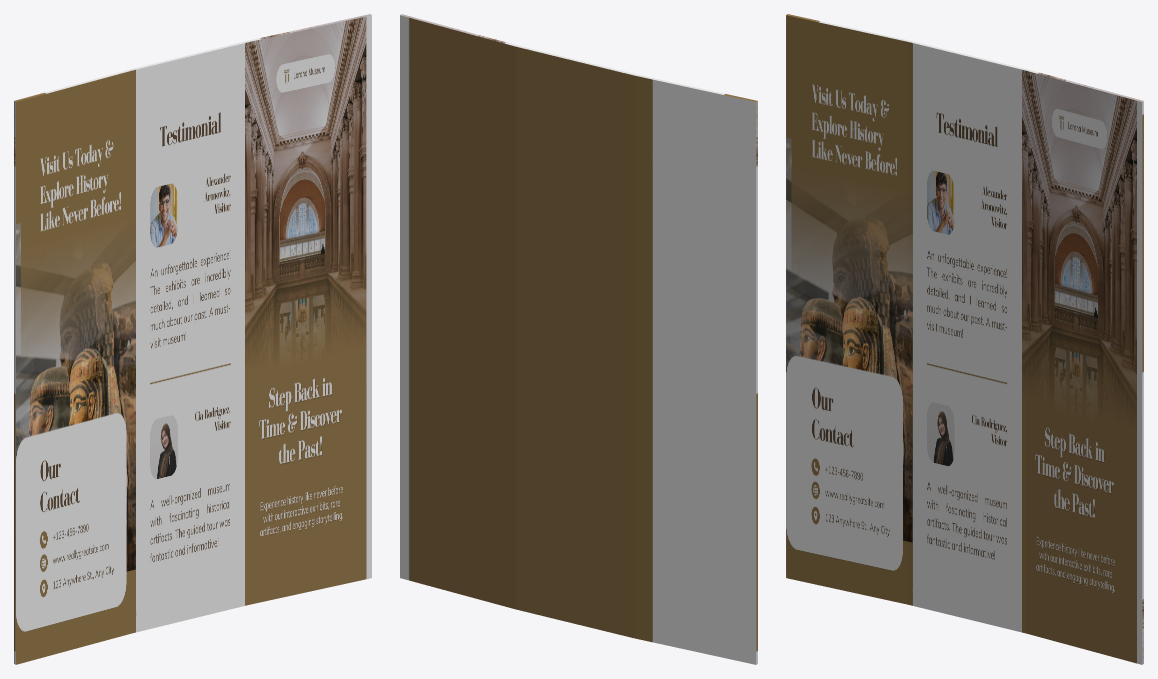
Rendered from Brochure.fbx.
3 renders of one model, left to right at view 1: azimuth 30°, elevation 25°; view 2: azimuth 150°, elevation 25°; view 3: azimuth 330°, elevation 25°, orthographic.
Parts seen in each view (by area): view 1: Brochure; view 2: Brochure; view 3: Brochure.
Boxes of the visible parts, x1=… form: Brochure: x1=14, y1=14, x2=371, y2=664; Brochure: x1=400, y1=14, x2=757, y2=664; Brochure: x1=786, y1=14, x2=1143, y2=664.
Size of the model in its own units: 6.85 by 10.34 by 0.164.
Materials: 1 (1 with a texture image).
